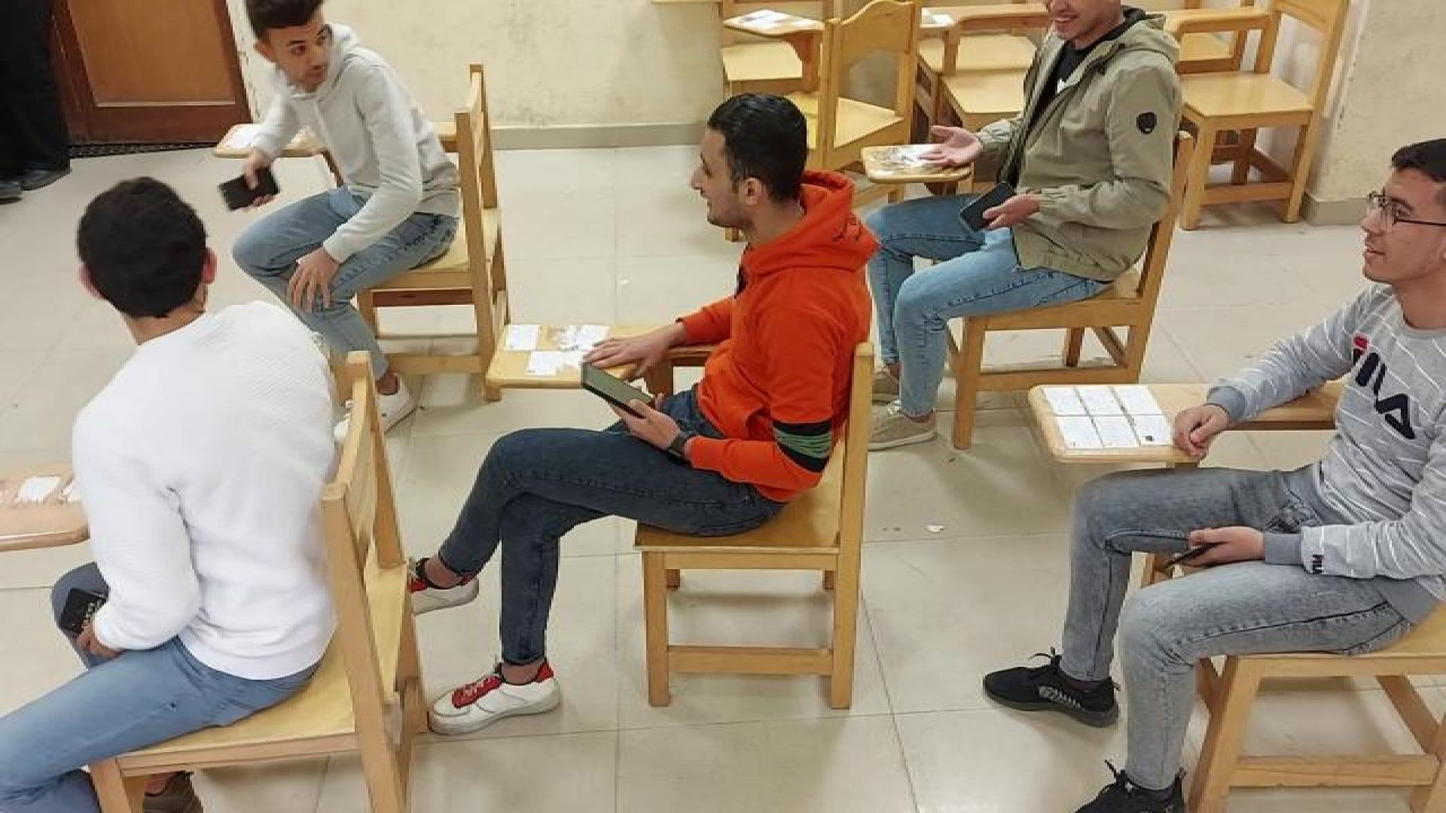phone: (581, 361, 655, 413), (957, 184, 1025, 228), (220, 164, 279, 211), (61, 590, 106, 633)
